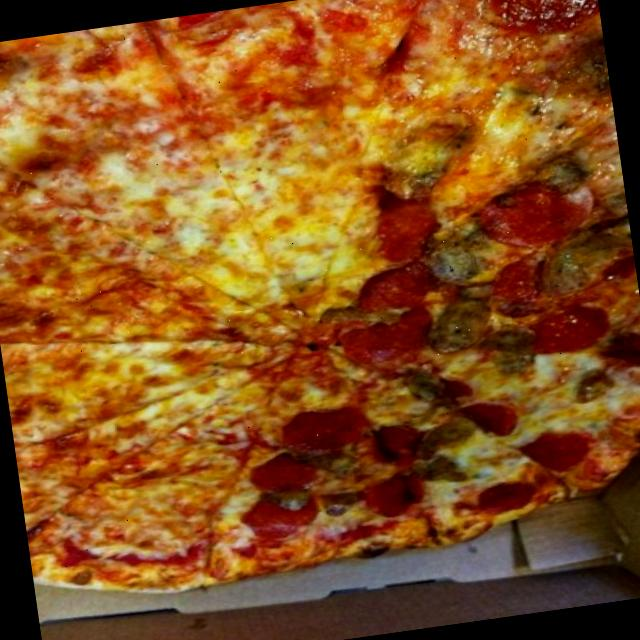pepperoni: (458, 172, 604, 264), (352, 194, 452, 324), (226, 444, 327, 549), (409, 364, 523, 454), (510, 292, 620, 378), (324, 309, 444, 381), (470, 243, 556, 334), (438, 467, 554, 534), (495, 422, 610, 488), (269, 398, 374, 468), (352, 458, 437, 544), (356, 418, 434, 492)
